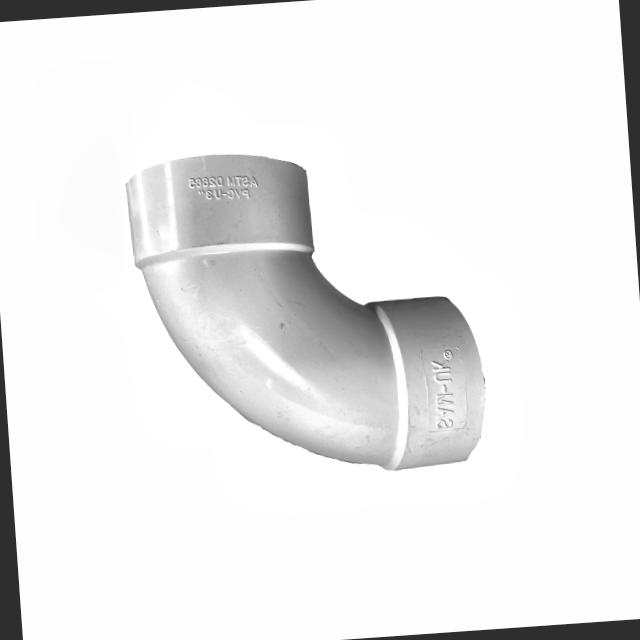ELBOW90: (123, 151, 487, 471)
